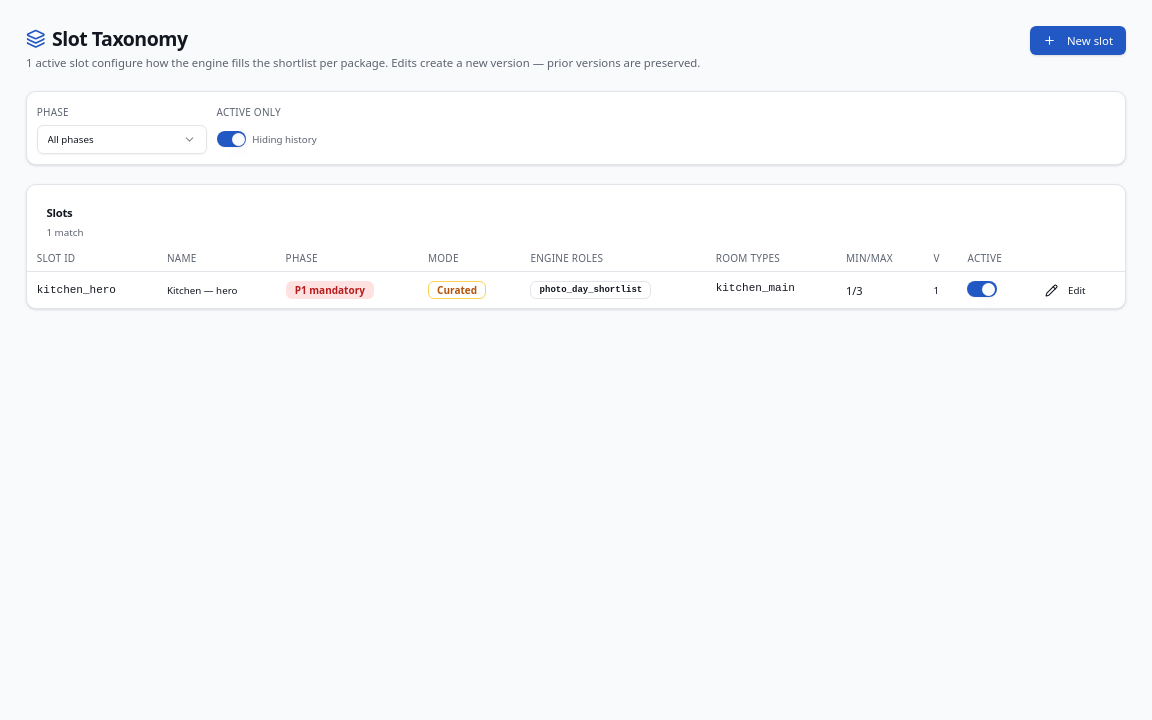
Test: SettingsShortlistingSlots — W11.6.22b dropdown vocabularies › renders a position row with vocabulary dropdowns + signal chips when curated has 1 pref
The image size is (1152, 720).
What coordinates should you click on to do the following:
click the button "Edit"
I would click on:
 (1065, 290)
Its box is [1039,279,1092,301].
(page scrolled)
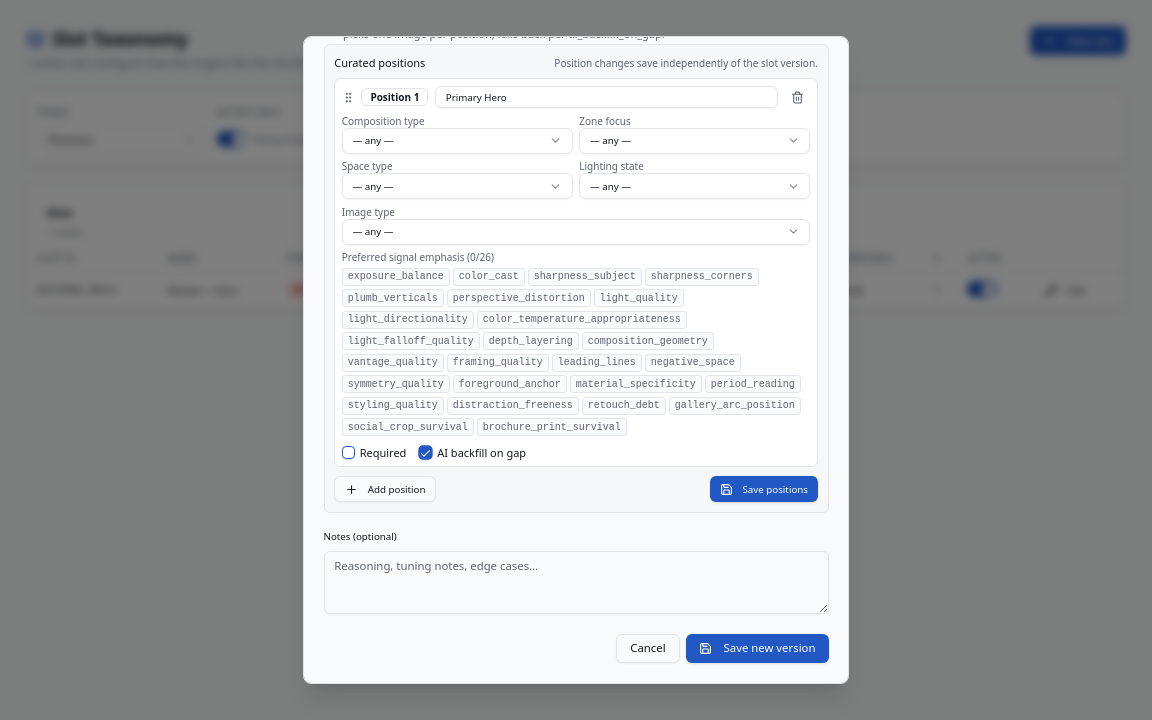
Now the element with test id "curated-positions-section" is shown, box [324,44,828,513]
Now the element with test id "position-row-1" is shown, box [334,78,818,467]
Now the field with test id "position-label-1" holds "Primary Hero", box [435,86,778,108]
